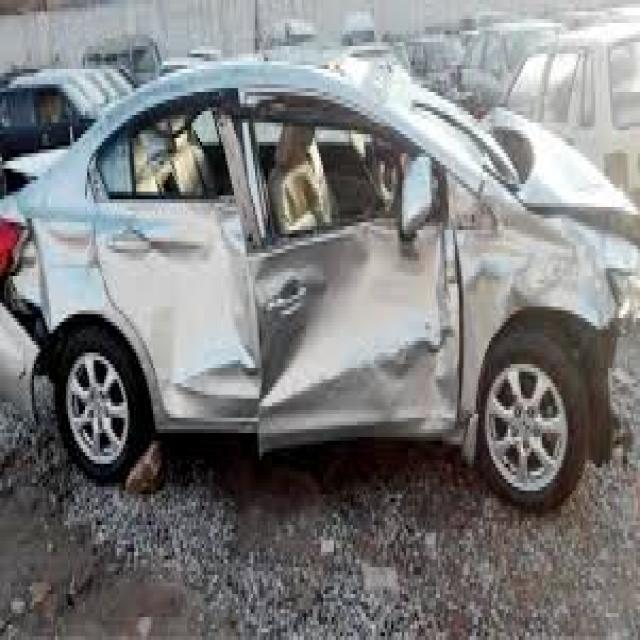accident: (7, 52, 616, 537)
